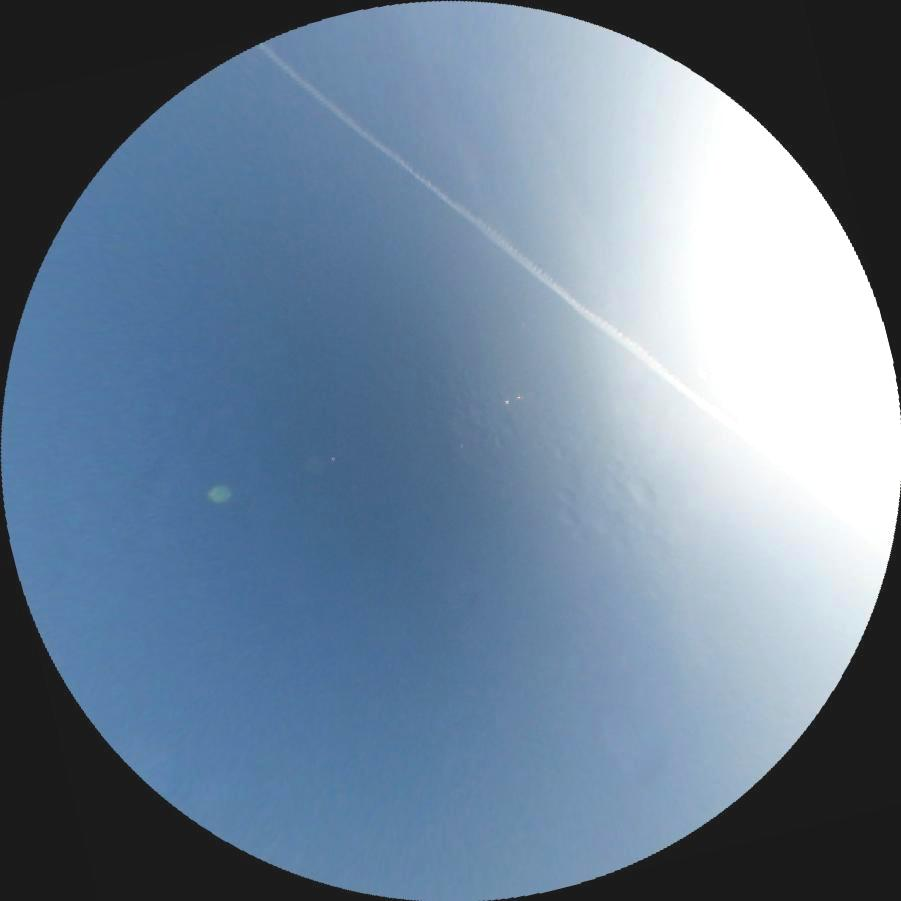contrail old: (251, 37, 866, 537)
